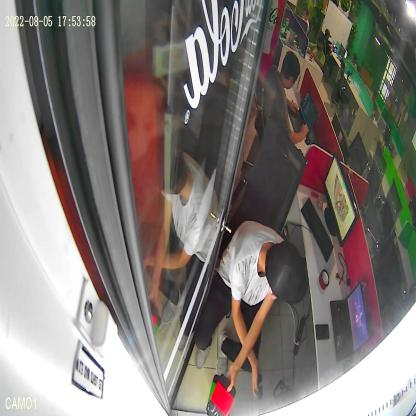green: (206, 374, 229, 416)
red: (208, 374, 236, 416)
